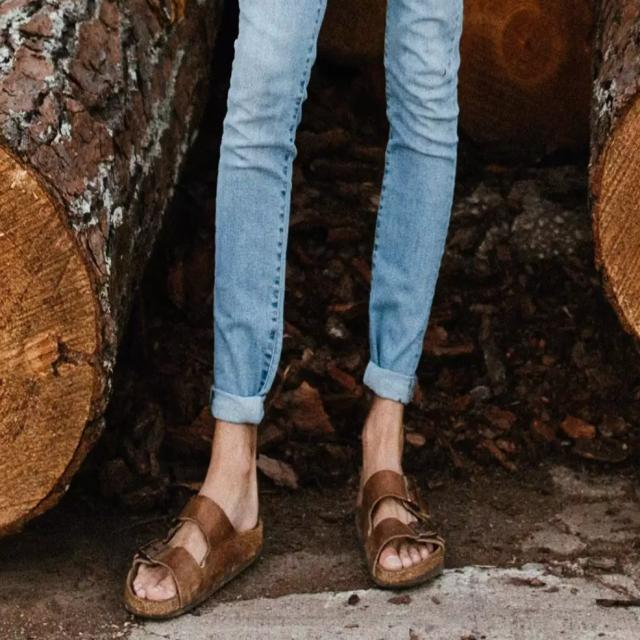Sandals: (124, 492, 264, 621), (356, 467, 450, 594)
